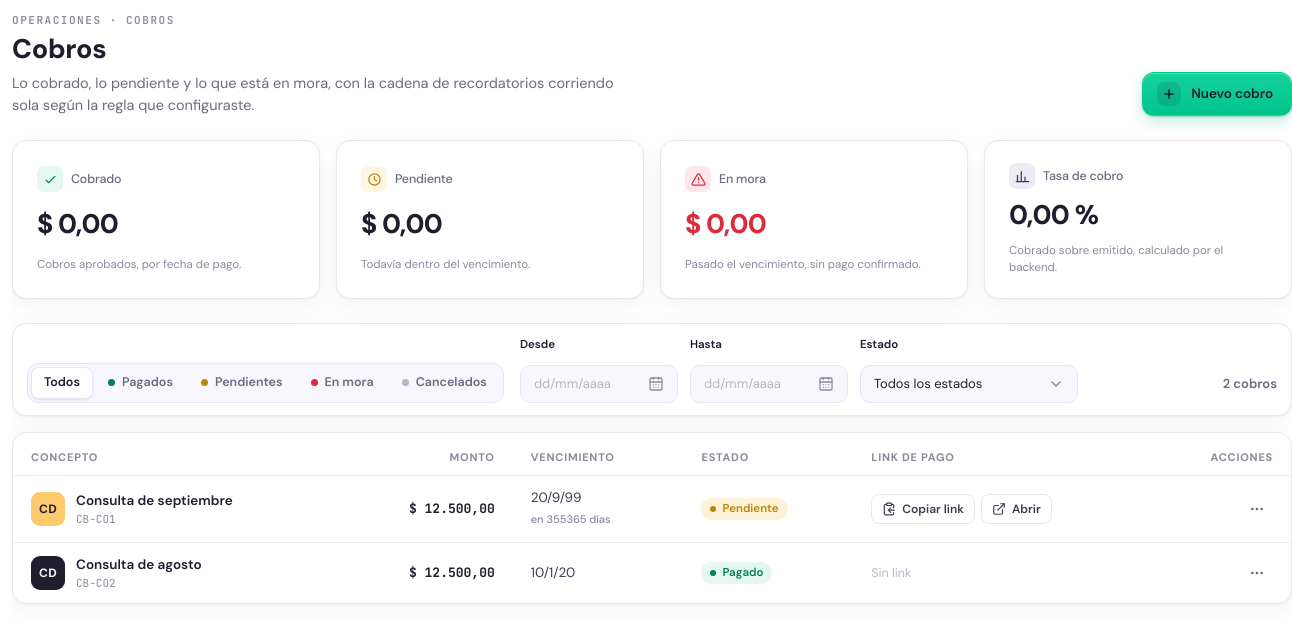
Test case: el listado de cobros — link de pago › copia el link y lo confirma en el botón
Click the button with aria-label "Copiar link de Consulta de septiembre": click(923, 509) [871,494,975,524]
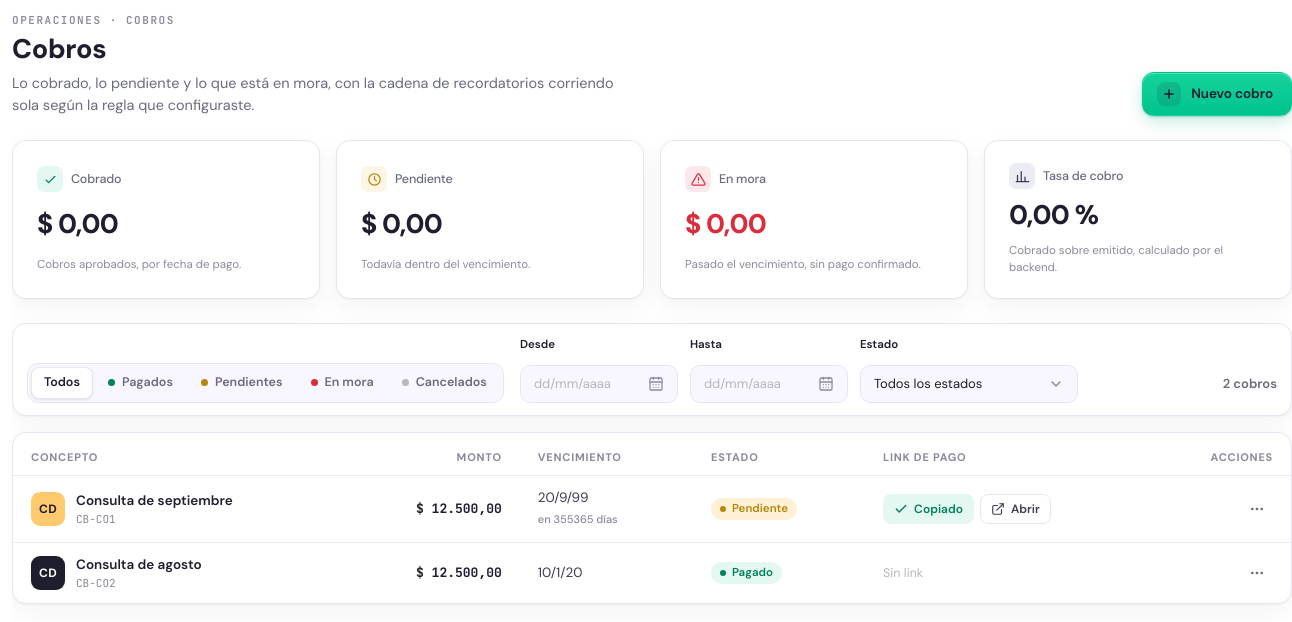
expect the text "Copiado" is shown: met, box [914,500,963,518]
